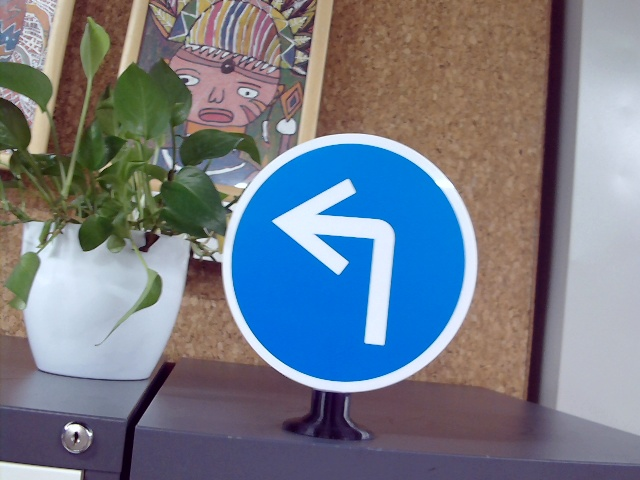turn_left: (275, 176, 406, 345)
